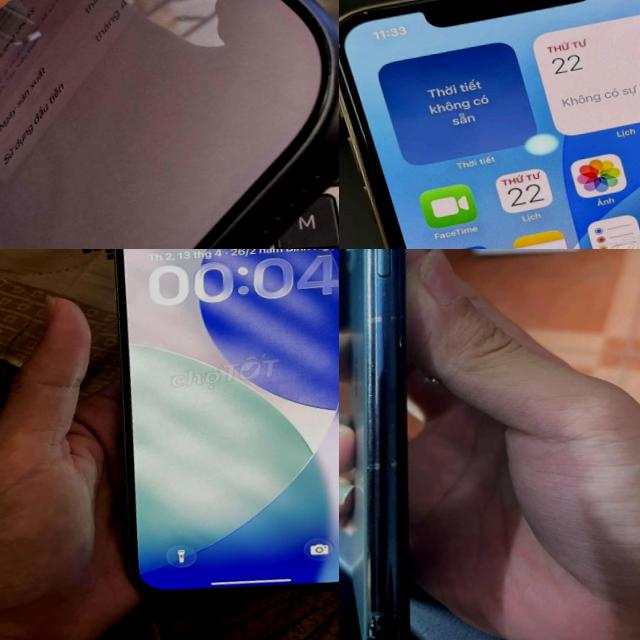gen_11: (339, 0, 640, 249)
gen_15: (60, 249, 339, 625)
gen_17: (0, 0, 339, 249)
gen_x_xs: (339, 249, 464, 640)
